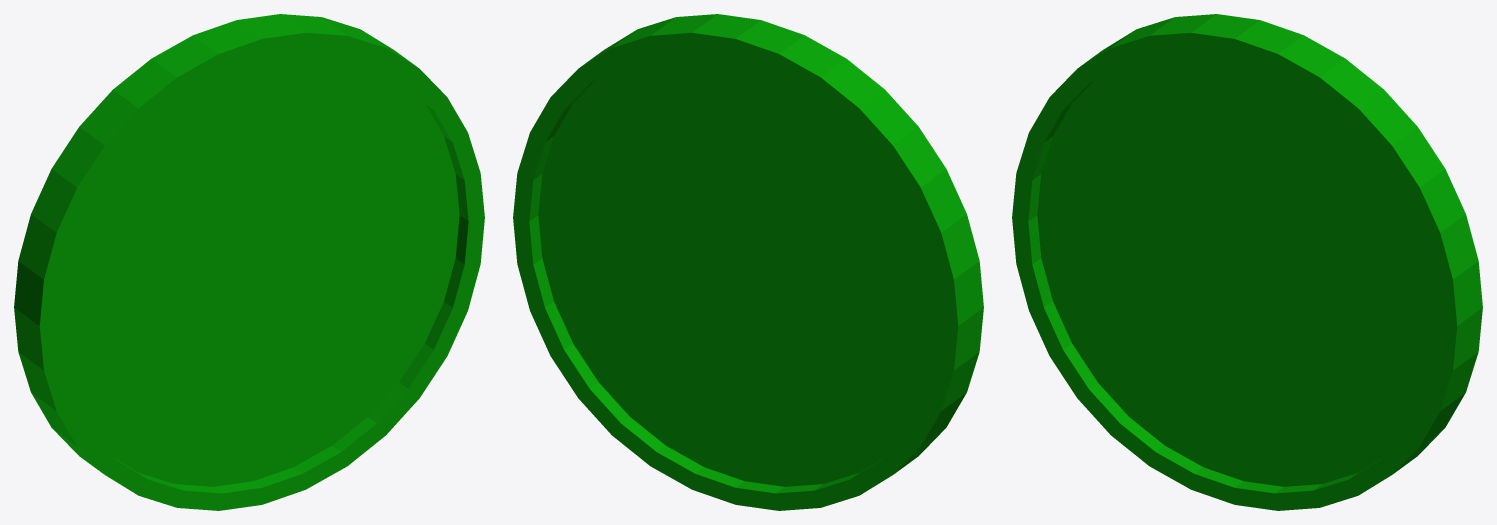
File: coin.fbx
3 renders of one model, left to right at view 1: azimuth 30°, elevation 25°; view 2: azimuth 150°, elevation 25°; view 3: azimuth 330°, elevation 25°, orthographic.
Parts seen in each view (by area): view 1: Cylinder; view 2: Cylinder; view 3: Cylinder.
Part boxes in pixels (left/top/right/bottom): Cylinder: left=14, top=14, right=484, bottom=510; Cylinder: left=513, top=14, right=983, bottom=510; Cylinder: left=1012, top=14, right=1482, bottom=510.
Size of the model in its own units: 200 by 200 by 20.
